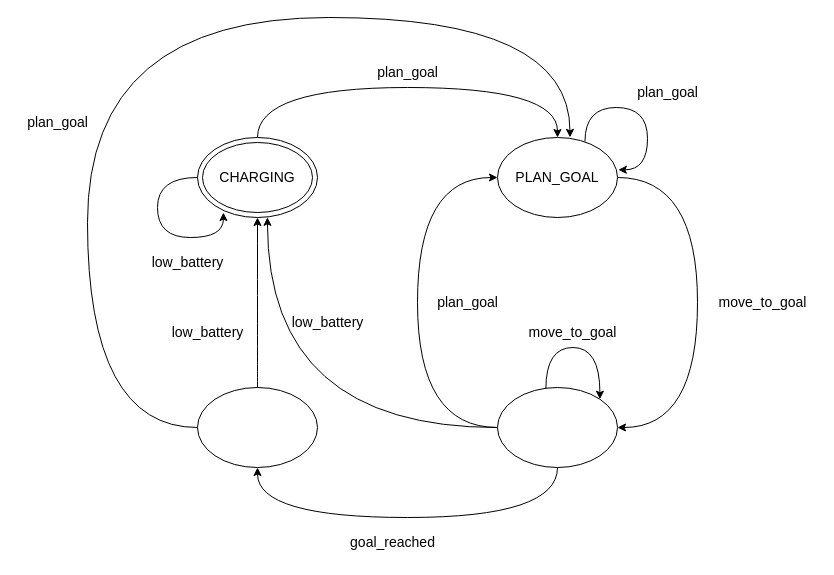
The diagram is 834 pixels wide and 575 high, and some of its shapes have lost their labels. Here are the shapes that lost their labels. From the top down, the box of each, then its label:
(196, 386, 318, 468): WAITING
(496, 386, 618, 468): MOVING
